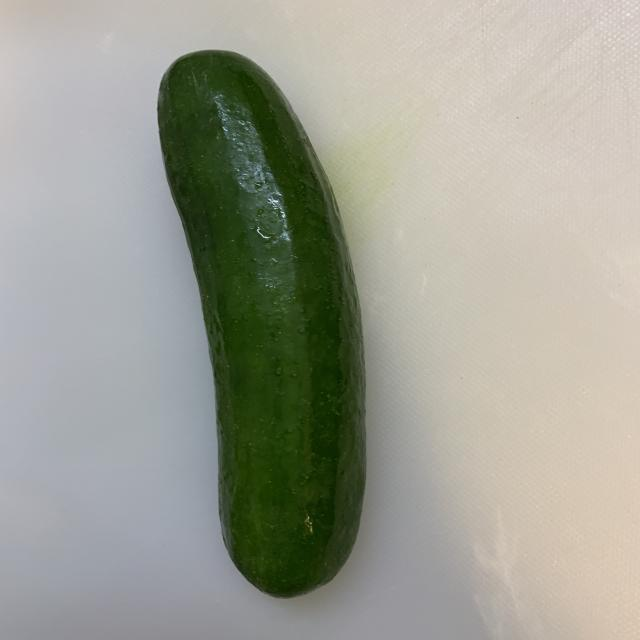Cucumber: (150, 57, 366, 605)
